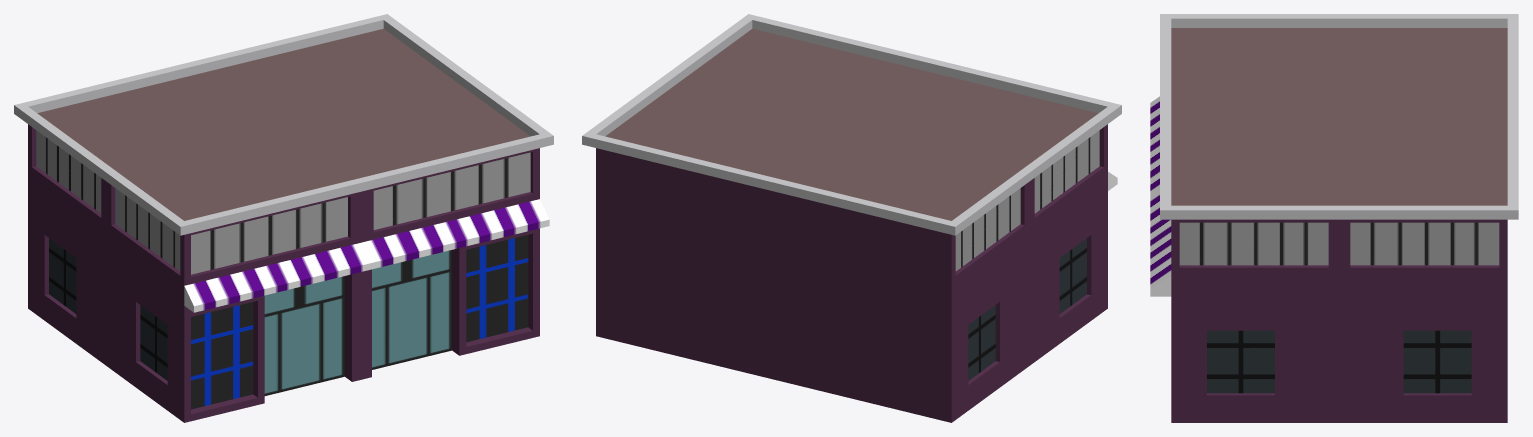
The model's file is building11a.FBX.
The picture shows the model from 3 angles, left to right: view 1: azimuth 30°, elevation 25°; view 2: azimuth 150°, elevation 25°; view 3: azimuth 270°, elevation 25°; orthographic projection. The views are drawn at different scales.
Visible parts, largest first — view 1: building11a; view 2: building11a; view 3: building11a.
Boxes of the visible parts, <box> form: building11a: <box>14,14,553,422</box>; building11a: <box>582,14,1121,422</box>; building11a: <box>1150,14,1518,422</box>.
Bounding box in the file's own units: 15.84 × 8.19 × 12.57.
